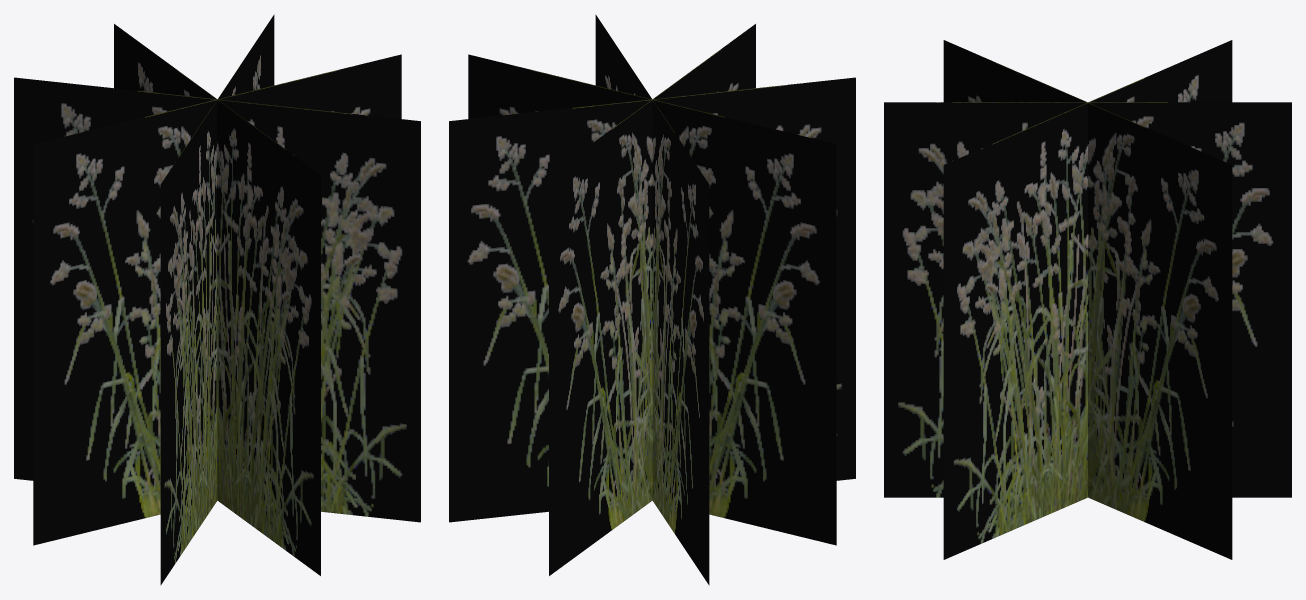
Rendered from Plant2.fbx.
3 views of the same model, side by side, from view 1: azimuth 30°, elevation 25°; view 2: azimuth 150°, elevation 25°; view 3: azimuth 270°, elevation 25° (orthographic).
Parts seen in each view (by area): view 1: Plant2; view 2: Plant2; view 3: Plant2.
Boxes of the visible parts, x1,y1,x2,y2 form: Plant2: [14, 14, 420, 585]; Plant2: [449, 14, 855, 585]; Plant2: [884, 40, 1291, 559].
Size of the model in its own units: 0.4881 by 0.4756 by 0.5085.
Materials: 1 (1 with a texture image).
